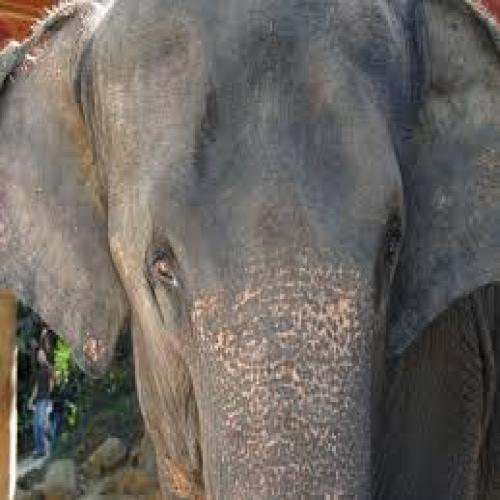asian_elephant-endangered: (16, 18, 472, 476)
